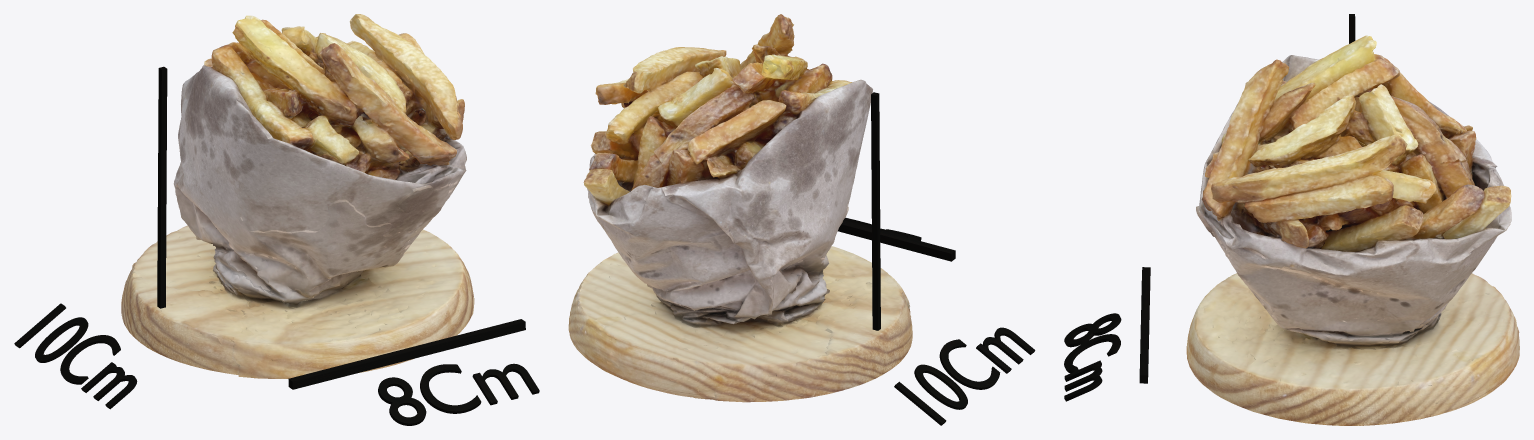
Rendered from fries.glb.
The picture shows the model from 3 angles, left to right: view 1: azimuth 30°, elevation 25°; view 2: azimuth 150°, elevation 25°; view 3: azimuth 270°, elevation 25°; orthographic projection.
Visible parts, largest first — view 1: Object_4, Text.001, Text, Cube.001, Cube; view 2: Object_4, Text, Cube, Cube.001; view 3: Object_4, Text.001, Cube.001.
Boxes of the visible parts, box(x1,y1,x2,y2) form: Object_4: box(121, 14, 474, 378); Text.001: box(378, 363, 539, 425); Text: box(14, 303, 137, 409); Cube.001: box(288, 319, 525, 389); Cube: box(157, 66, 167, 308); Object_4: box(568, 14, 912, 402); Text: box(894, 327, 1035, 425); Cube: box(871, 92, 880, 330); Cube.001: box(838, 220, 955, 261); Object_4: box(1186, 35, 1519, 425); Text.001: box(1064, 313, 1121, 401); Cube.001: box(1139, 267, 1150, 383).
Size of the model in its own units: 0.1636 by 0.1186 by 0.1631.
5 materials, 5 textured.
